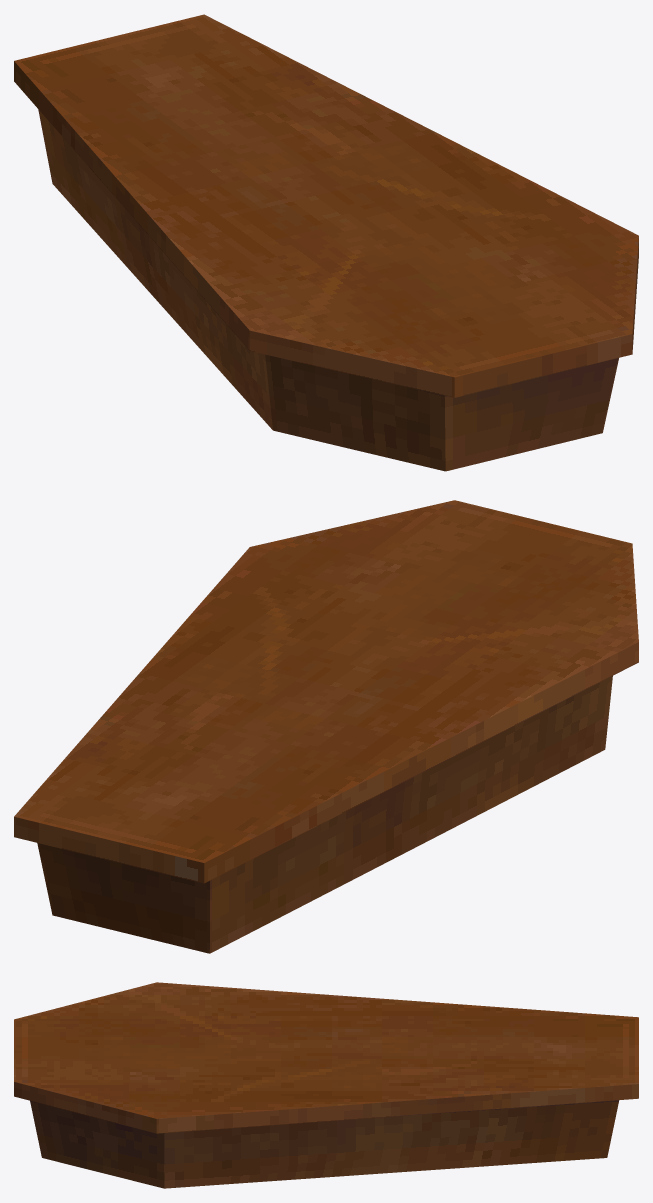
Rendered from item_halloween_coffin.glb.
3 renders of one model, top to bottom at view 1: azimuth 30°, elevation 25°; view 2: azimuth 150°, elevation 25°; view 3: azimuth 270°, elevation 25°, orthographic. The views are drawn at different scales.
Parts seen in each view (by area): view 1: coffin; view 2: coffin; view 3: coffin.
Part boxes in pixels (<box>): coffin: <box>14,14,638,471</box>; coffin: <box>14,500,638,953</box>; coffin: <box>14,982,638,1188</box>.
Bounding box in the file's own units: 0.7229 × 0.1967 × 1.4.
Materials: 1 (1 with a texture image).
